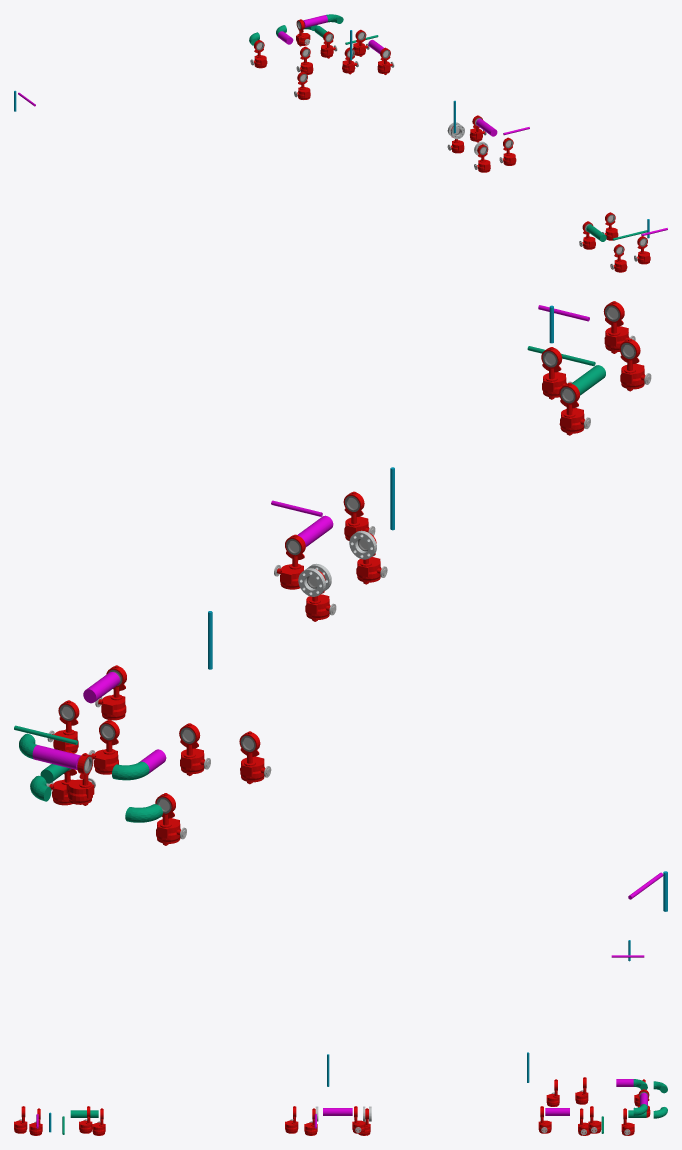
3 views of the same model, one above another, from view 1: azimuth 30°, elevation 25°; view 2: azimuth 150°, elevation 25°; view 3: azimuth 270°, elevation 25° (orthographic). The views are drawn at different scales.
Size of the model in its own units: 6.09 by 1.15 by 9.51.
